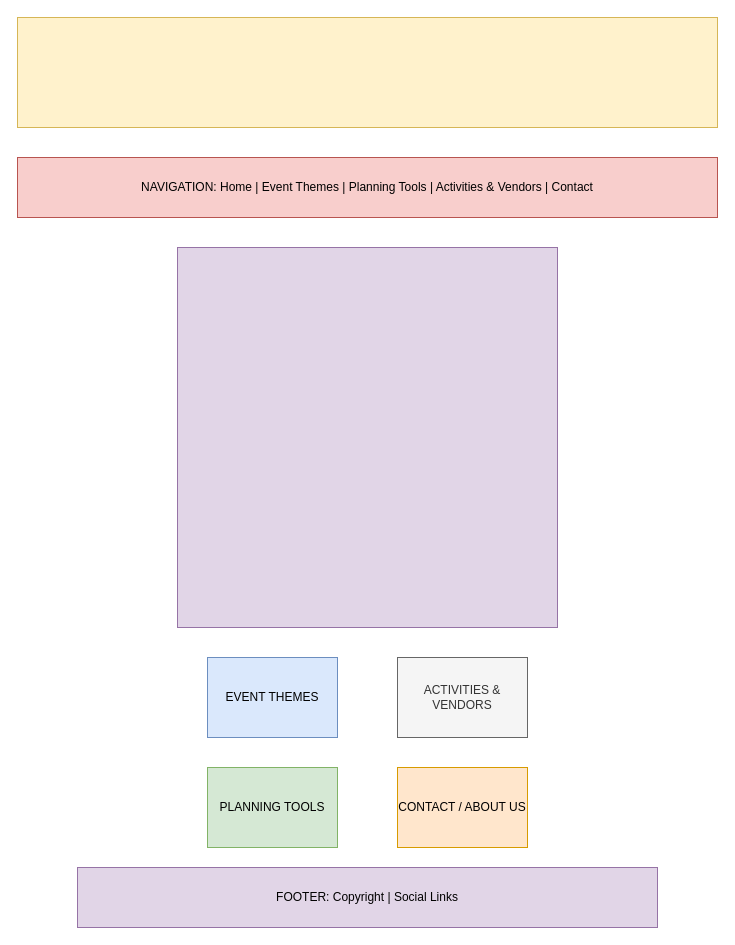
This 735x945 diagram has some shape labels left out. The centre of each missing label's shape, as x and y in pixels:
HEADER: Site Title & Logo: pixel 367 72
HERO IMAGE/ WELCOM MESSAGE: pixel 367 437
